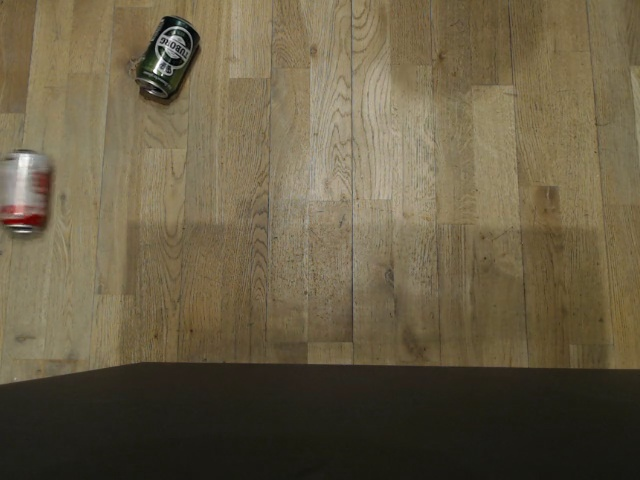beer: (131, 11, 204, 102)
cola: (0, 145, 54, 232)
